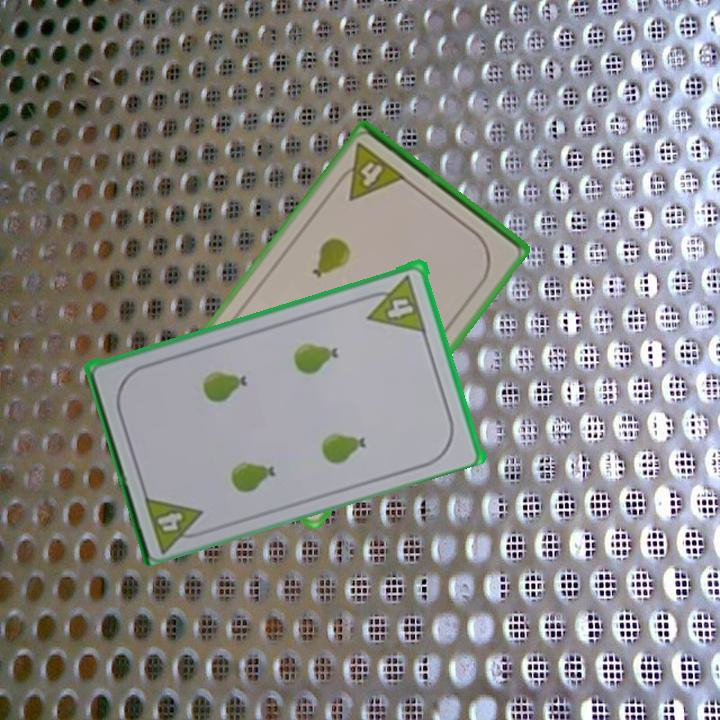4p: (331, 139, 409, 204), (367, 290, 425, 335), (153, 507, 186, 534)
